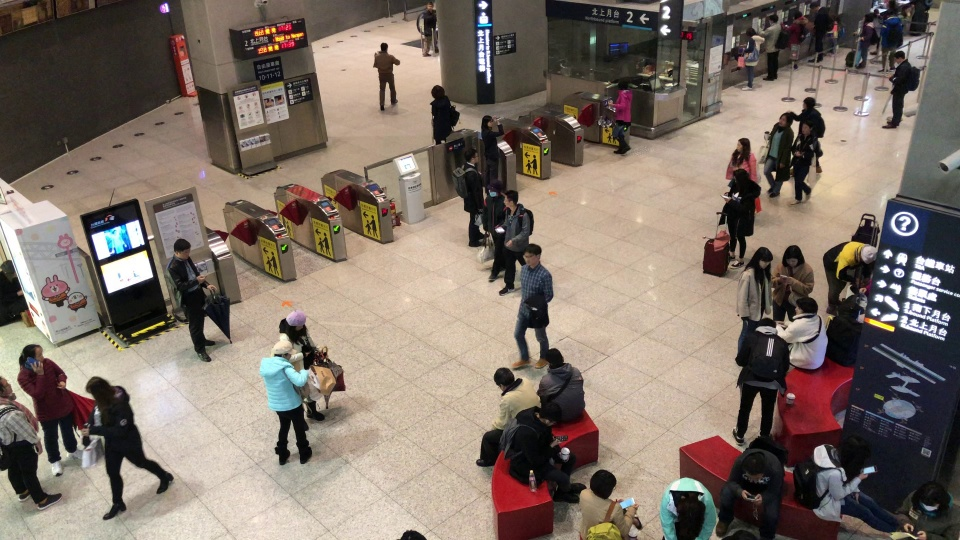person_head: (840, 434, 870, 469), (589, 469, 617, 501), (84, 377, 113, 404), (919, 483, 942, 512), (742, 453, 765, 481), (678, 502, 703, 527), (19, 344, 44, 368), (538, 402, 562, 425), (493, 366, 515, 391), (782, 244, 805, 267), (794, 296, 819, 315), (287, 309, 307, 330), (273, 340, 294, 360), (523, 243, 542, 265), (544, 347, 564, 367), (172, 238, 191, 259), (860, 243, 877, 264), (758, 247, 773, 269), (486, 179, 503, 197), (503, 189, 519, 208), (732, 168, 748, 187), (463, 147, 479, 163), (0, 260, 16, 276), (736, 137, 751, 154), (778, 112, 794, 127), (430, 84, 446, 98), (0, 377, 13, 394), (759, 317, 777, 328), (801, 120, 814, 135), (481, 115, 494, 129), (802, 96, 816, 109), (894, 50, 905, 65), (618, 77, 629, 90), (809, 2, 821, 13), (768, 13, 779, 24), (791, 10, 803, 20), (863, 13, 875, 23), (745, 27, 756, 36), (884, 9, 894, 18), (380, 41, 388, 51), (427, 2, 434, 11)
person_vbox: (80, 376, 175, 519), (792, 433, 900, 533), (497, 402, 587, 505), (16, 344, 83, 476), (0, 376, 62, 510), (728, 317, 790, 445), (714, 437, 787, 538), (258, 339, 313, 465), (475, 366, 542, 467), (165, 238, 217, 362), (278, 309, 329, 431), (510, 243, 554, 370), (578, 469, 644, 540), (717, 168, 761, 269), (494, 189, 534, 295), (735, 246, 772, 360), (822, 241, 877, 317), (888, 481, 960, 539), (773, 296, 828, 369), (450, 148, 490, 247), (536, 347, 586, 425), (659, 476, 717, 540), (770, 244, 814, 322), (880, 50, 920, 129), (787, 97, 825, 177), (481, 179, 508, 282), (763, 112, 794, 198), (788, 120, 815, 207), (756, 14, 788, 82), (606, 77, 633, 156), (725, 137, 762, 192), (480, 115, 505, 196), (372, 42, 400, 110), (780, 10, 811, 71), (429, 84, 459, 146), (0, 260, 28, 326), (878, 8, 904, 73), (738, 27, 764, 91), (807, 2, 833, 63), (852, 13, 879, 69), (419, 2, 439, 57)
